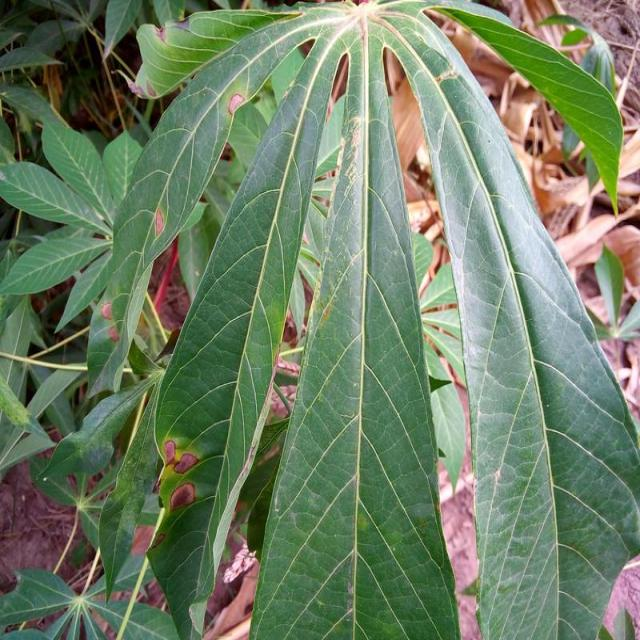cassava leaf: (96, 0, 638, 638)
